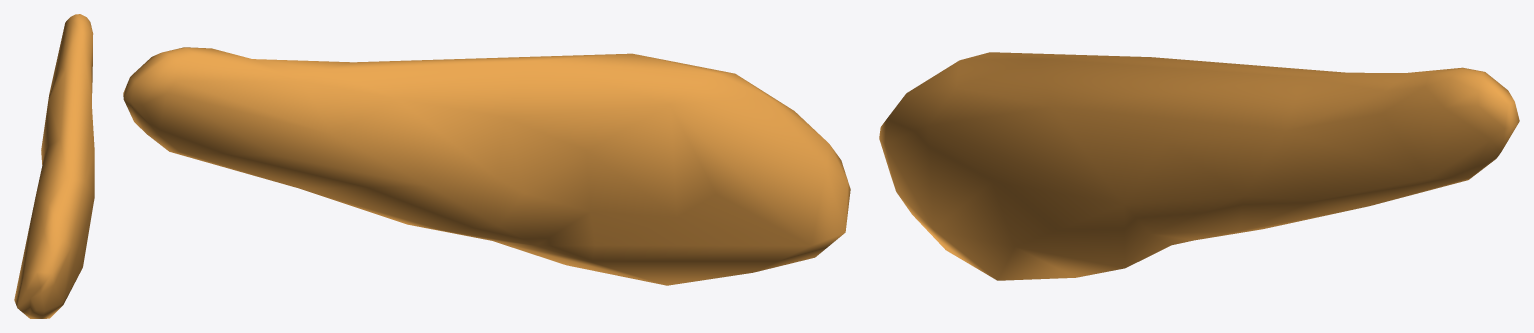
The model's file is visceras-sublingual-gland-l.glb.
3 views of the same model, side by side, from view 1: azimuth 30°, elevation 25°; view 2: azimuth 150°, elevation 25°; view 3: azimuth 270°, elevation 25° (orthographic). The views are drawn at different scales.
Parts seen in each view (by area): view 1: Sublingual gland.l; view 2: Sublingual gland.l; view 3: Sublingual gland.l.
Boxes of the visible parts, x1,y1,x2,y2 form: Sublingual gland.l: (14, 14, 94, 318); Sublingual gland.l: (123, 47, 850, 285); Sublingual gland.l: (879, 52, 1519, 280).
Size of the model in its own units: 0.0165 by 0.0124 by 0.0212.
